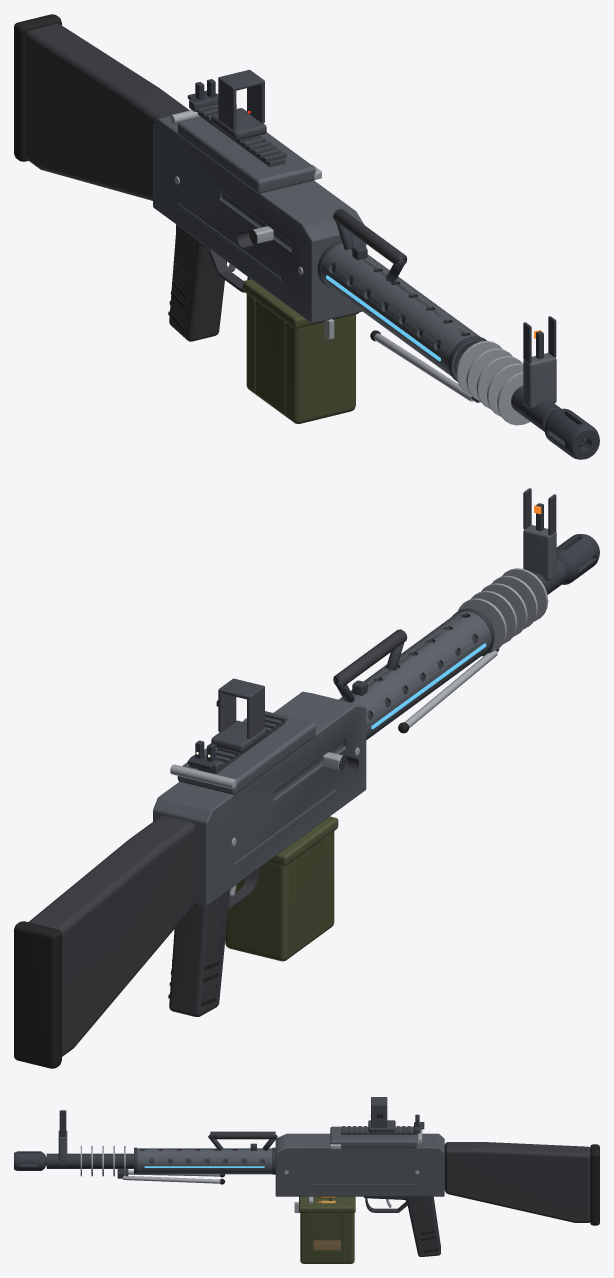
Rendered from lmg.glb.
The picture shows the model from 3 angles, top to bottom: view 1: azimuth 30°, elevation 25°; view 2: azimuth 150°, elevation 25°; view 3: azimuth 270°, elevation 25°; orthographic projection. The views are drawn at different scales.
Visible parts, largest first — view 1: body__0_8, mag__0_8, body__4_8, body__8_8, body__5_8; view 2: body__0_8, mag__0_8, body__4_8, body__8_8; view 3: body__0_8, mag__0_8, body__8_8, body__4_8, mag__0_5, body__5_8.
Part boxes in pixels (x1,y1,x2,y2): body__0_8: [14, 14, 599, 459]; mag__0_8: [242, 279, 359, 423]; body__4_8: [456, 341, 530, 425]; body__8_8: [187, 69, 266, 140]; body__5_8: [326, 275, 440, 361]; body__0_8: [14, 488, 599, 1068]; mag__0_8: [225, 816, 338, 961]; body__4_8: [458, 568, 548, 651]; body__8_8: [187, 678, 266, 769]; body__0_8: [14, 1110, 599, 1256]; mag__0_8: [294, 1196, 355, 1263]; body__8_8: [368, 1097, 424, 1132]; body__4_8: [80, 1146, 125, 1176]; mag__0_5: [313, 1240, 340, 1250]; body__5_8: [144, 1166, 264, 1167].
Bounding box in the file's own units: 0.113 × 0.31 × 1.08.
